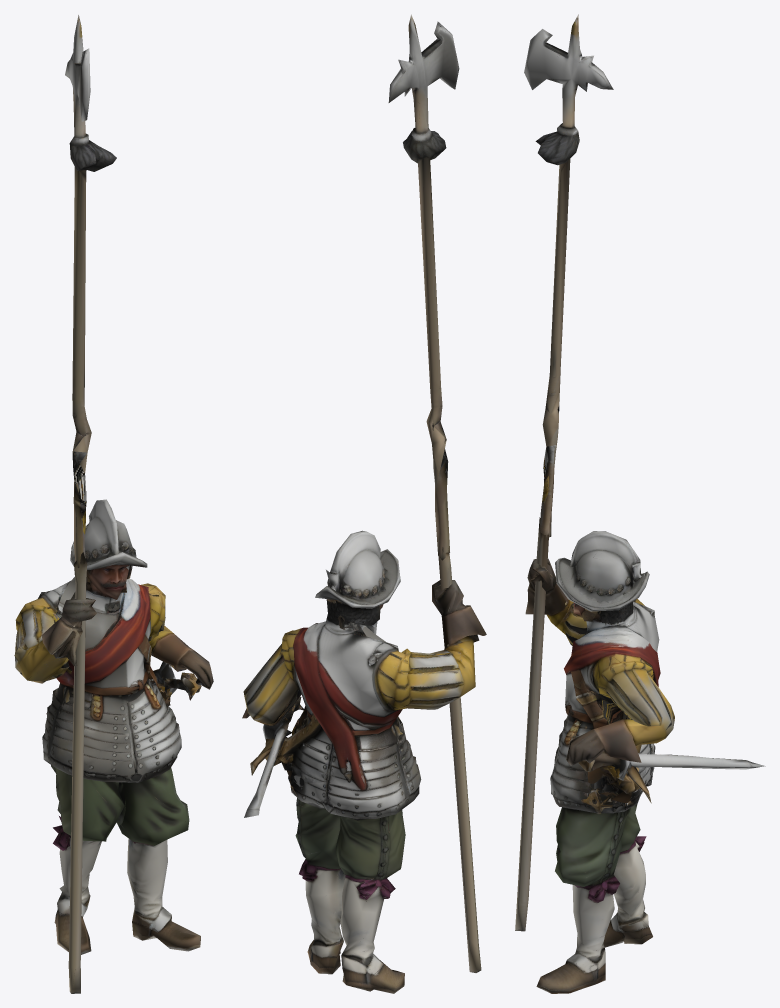
Rendered from PIKEMAN_Ger_Def.glb.
3 views of the same model, side by side, from view 1: azimuth 30°, elevation 25°; view 2: azimuth 150°, elevation 25°; view 3: azimuth 270°, elevation 25° (orthographic). The views are drawn at different scales.
Parts seen in each view (by area): view 1: Mesh1.001; view 2: Mesh1.001; view 3: Mesh1.001.
Boxes of the visible parts, bbox=[...] form: Mesh1.001: bbox=[14, 15, 213, 993]; Mesh1.001: bbox=[242, 14, 486, 993]; Mesh1.001: bbox=[515, 14, 765, 993].
Bounding box in the file's own units: 0.9116 × 4.33 × 1.06.
1 material, 1 textured.
